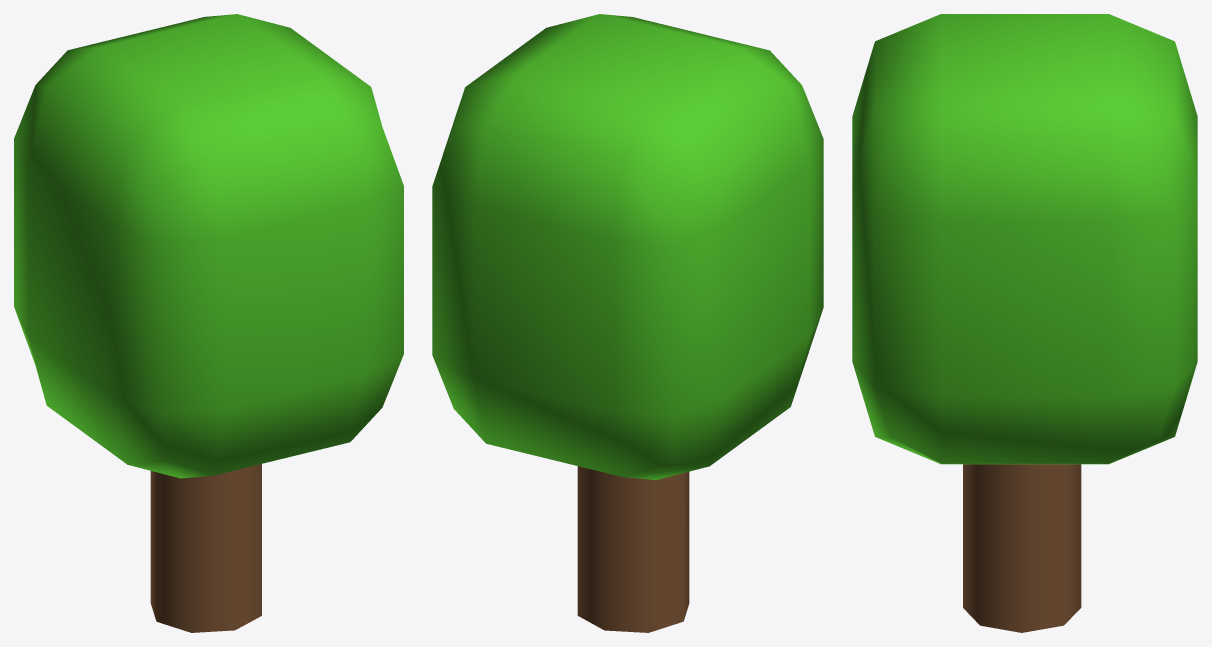
The model's file is bush02_s03.FBX.
The picture shows the model from 3 angles, left to right: view 1: azimuth 30°, elevation 25°; view 2: azimuth 150°, elevation 25°; view 3: azimuth 270°, elevation 25°; orthographic projection. The views are drawn at different scales.
Visible parts, largest first — view 1: bush02_s03; view 2: bush02_s03; view 3: bush02_s03.
Boxes of the visible parts, x1=… form: bush02_s03: x1=14, y1=14, x2=403, y2=632; bush02_s03: x1=432, y1=14, x2=823, y2=632; bush02_s03: x1=852, y1=14, x2=1197, y2=632.
Size of the model in its own units: 114 by 119 by 214.
1 material, 1 textured.
